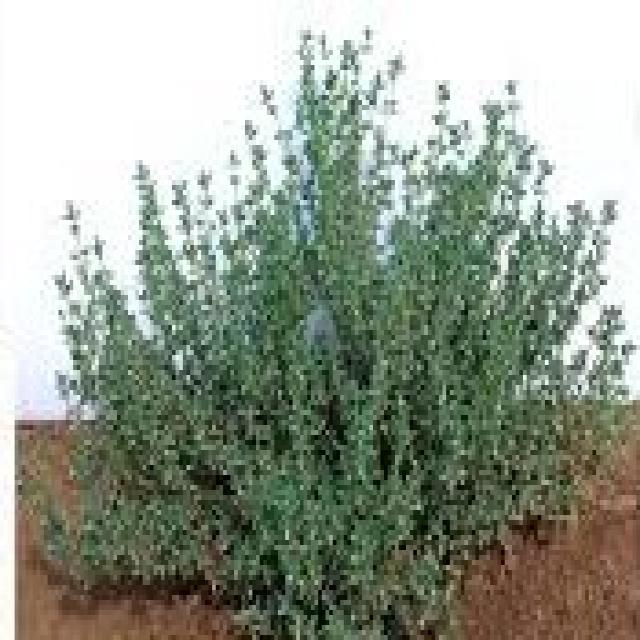Thyme: (41, 30, 636, 635)
